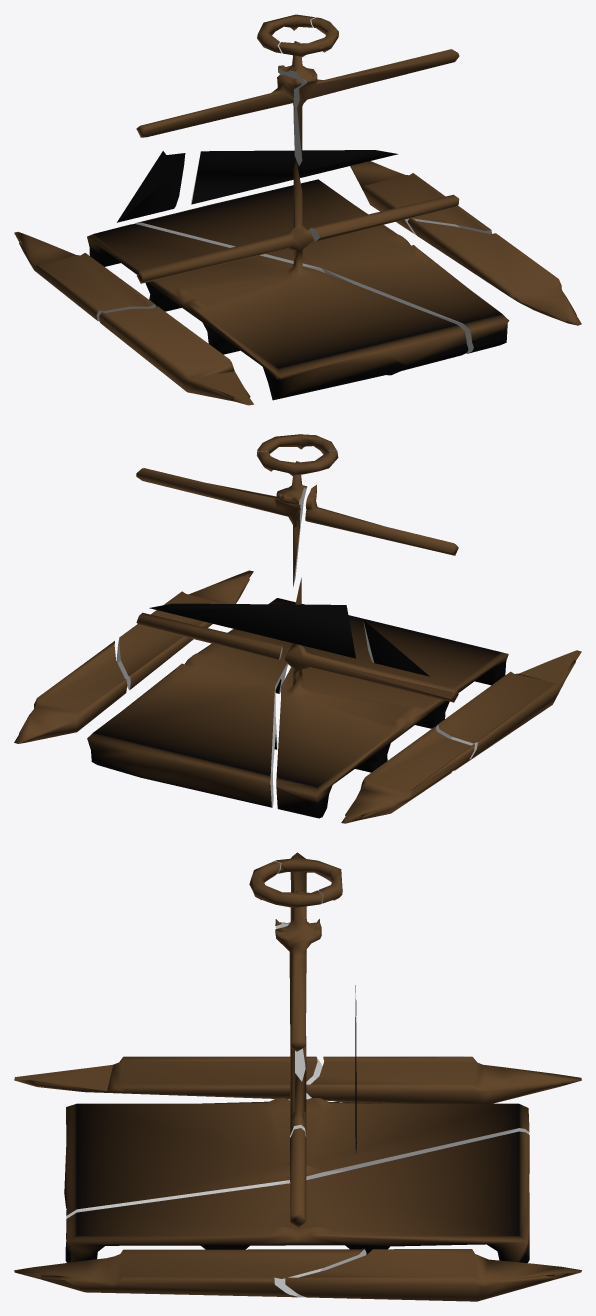
Rendered from Raft.glb.
3 renders of one model, top to bottom at view 1: azimuth 30°, elevation 25°; view 2: azimuth 150°, elevation 25°; view 3: azimuth 270°, elevation 25°, orthographic. The views are drawn at different scales.
Visible parts, largest first — view 1: Root.001, Root.006, Root, Root.004, Root.011, Root.005, Root.012, Root.008, Root.009, Root.003, Root.007, Root.010 (+1 smaller); view 2: Root.001, Root.006, Root, Root.011, Root.005, Root.012, Root.004, Root.008, Root.009, Root.007, Root.003, Root.002 (+1 smaller); view 3: Root.001, Root.006, Root.004, Root.012, Root.005, Root, Root.008, Root.007, Root.010, Root.002.
Part boxes in pixels (box(x1,y1,x2,y2)): Root.001: box(87, 159, 468, 400); Root.006: box(134, 179, 509, 353); Root: box(99, 306, 253, 405); Root.004: box(408, 218, 581, 325); Root.011: box(191, 150, 398, 204); Root.005: box(14, 232, 156, 321); Root.012: box(350, 161, 491, 234); Root.008: box(278, 41, 459, 165); Root.009: box(136, 74, 301, 137); Root.003: box(117, 151, 185, 222); Root.007: box(309, 194, 459, 241); Root.010: box(279, 17, 338, 57); Root.001: box(276, 577, 508, 818); Root.006: box(87, 598, 304, 807); Root: box(435, 650, 581, 770); Root.011: box(149, 603, 355, 658); Root.005: box(341, 726, 474, 823); Root.012: box(14, 641, 127, 743); Root.004: box(116, 570, 253, 690); Root.008: box(136, 461, 307, 586); Root.009: box(305, 485, 458, 555); Root.007: box(136, 612, 282, 660); Root.003: box(363, 620, 429, 676); Root.002: box(257, 450, 338, 476); Root.001: box(64, 1036, 529, 1239); Root.006: box(65, 1131, 529, 1262); Root.004: box(14, 1249, 366, 1297); Root.012: box(285, 1249, 581, 1301); Root.005: box(306, 1056, 581, 1103); Root: box(14, 1056, 330, 1101); Root.008: box(275, 891, 321, 1051); Root.007: box(290, 1128, 306, 1227); Root.010: box(249, 861, 322, 907); Root.002: box(275, 858, 342, 903).
Size of the model in its own units: 8.67 by 6.08 by 9.38.
